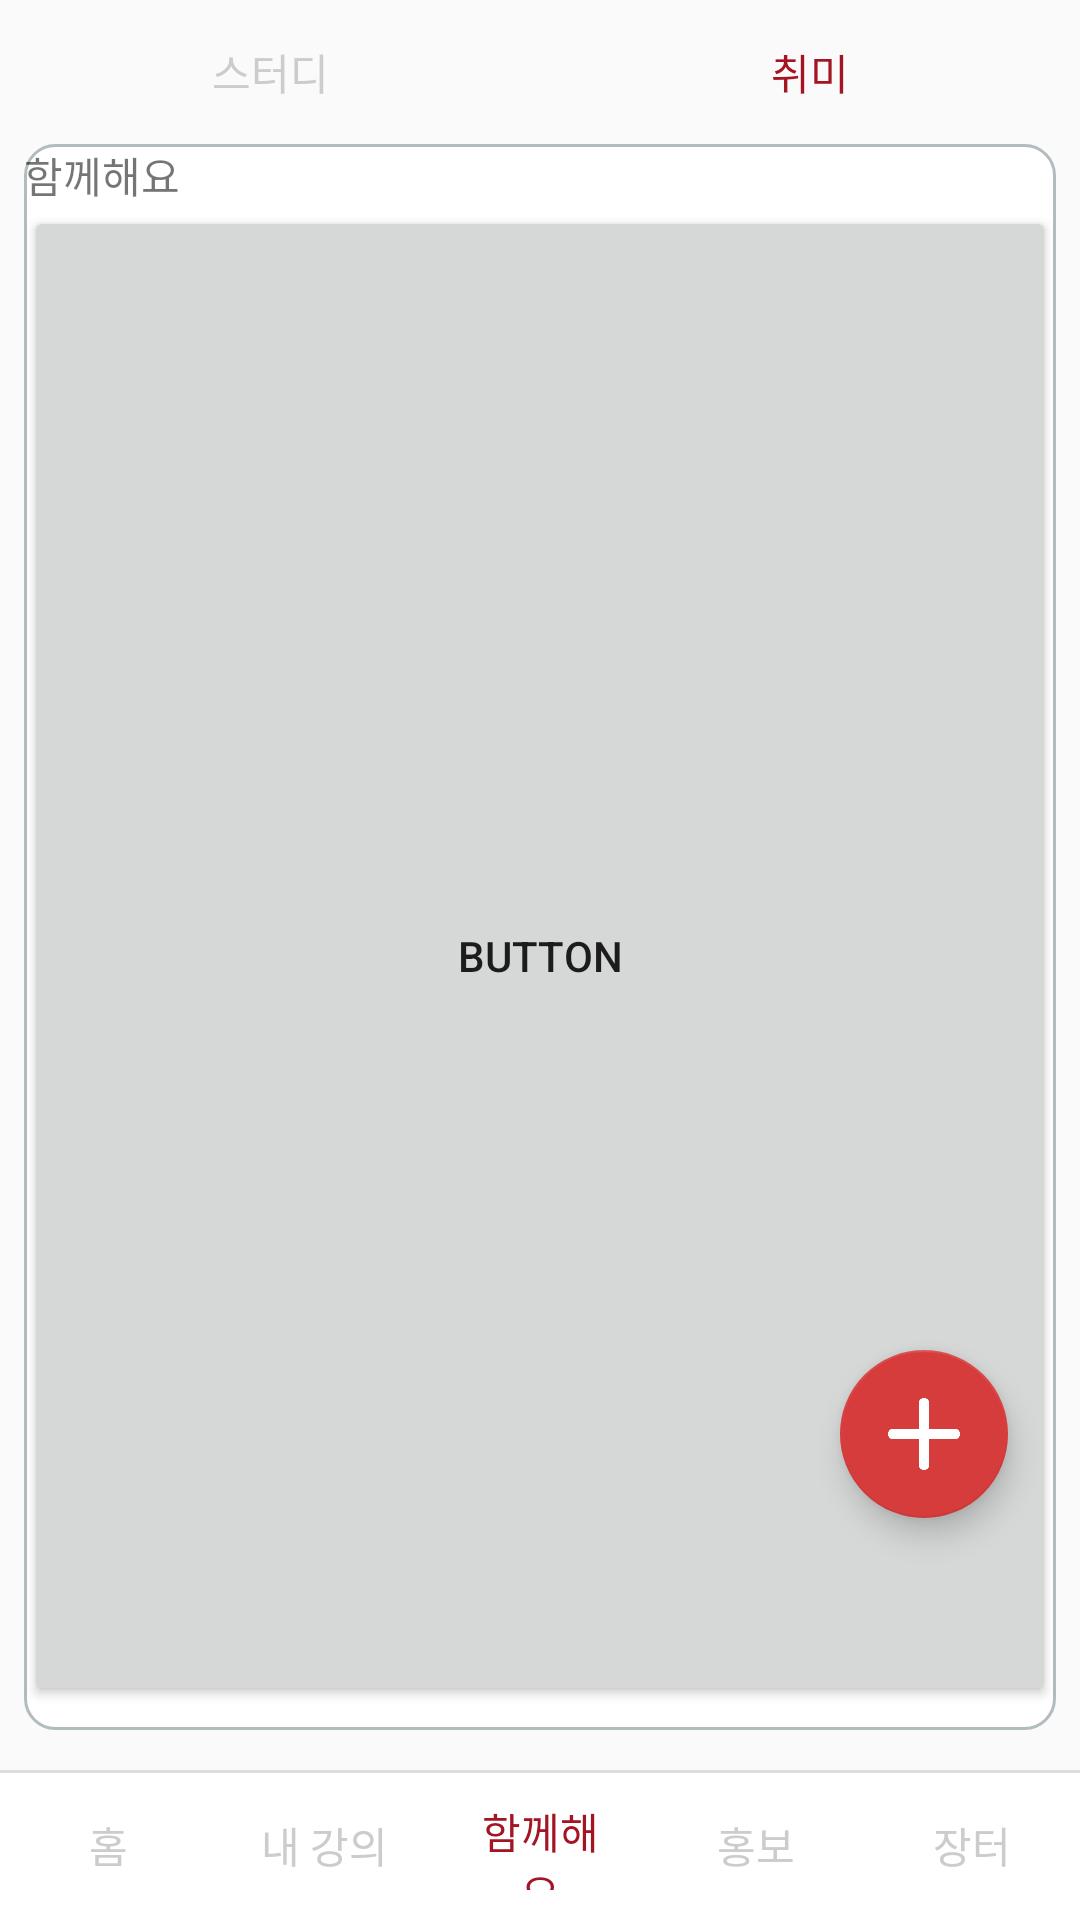

Icons on this 1080px×1920px Android screen, each with the point to tap as [x,y]:
add: [924,1434]
